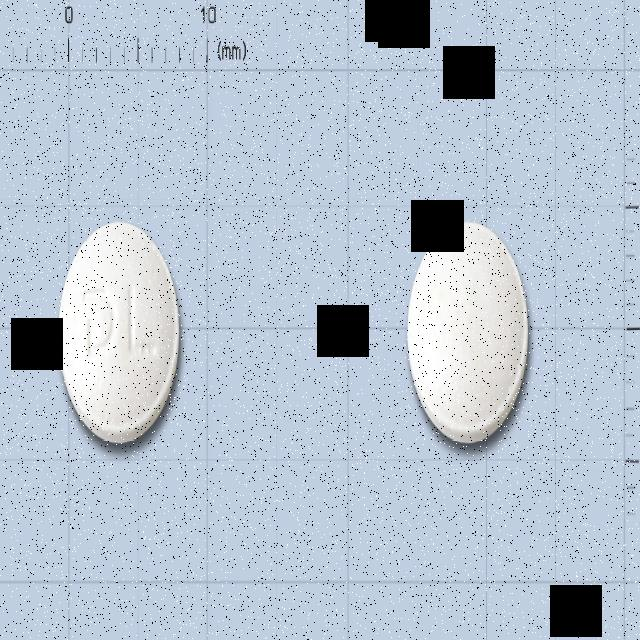Levicin: (59, 219, 182, 446)
